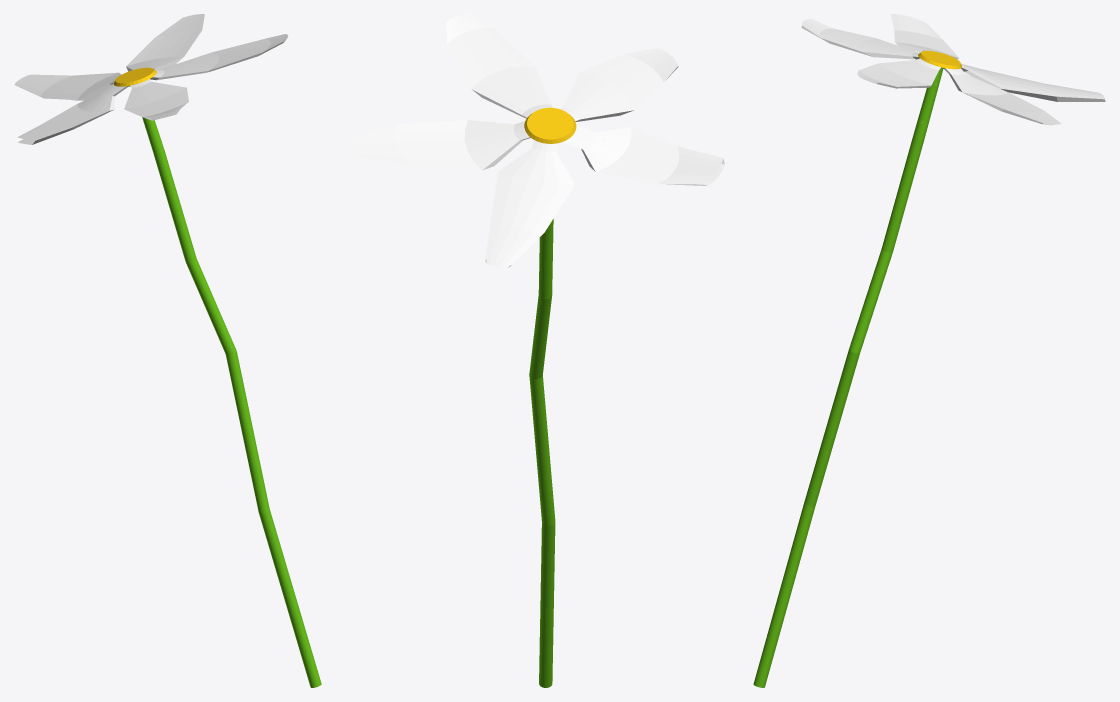
The model's file is Vase_Flower.fbx.
3 renders of one model, left to right at view 1: azimuth 30°, elevation 25°; view 2: azimuth 150°, elevation 25°; view 3: azimuth 270°, elevation 25°, orthographic. The views are drawn at different scales.
Visible parts, largest first — view 1: Cylinder.001; view 2: Cylinder.001; view 3: Cylinder.001.
Boxes of the visible parts, x1,y1,x2,y2 form: Cylinder.001: (14, 14, 321, 687); Cylinder.001: (350, 14, 724, 687); Cylinder.001: (753, 14, 1105, 687).
Bounding box in the file's own units: 36.01 × 83.78 × 43.01.
